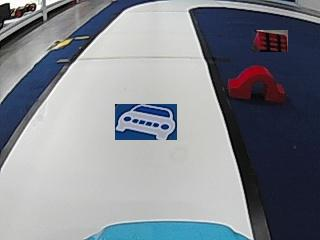bridge: (227, 65, 286, 101)
